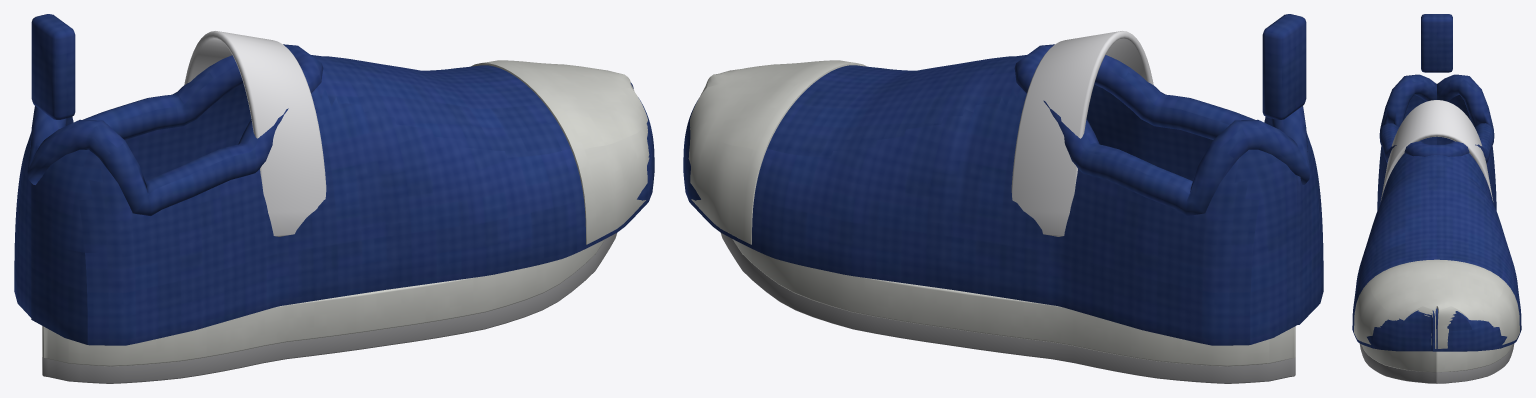
3 views of the same model, side by side, from view 1: azimuth 30°, elevation 25°; view 2: azimuth 150°, elevation 25°; view 3: azimuth 270°, elevation 25° (orthographic). The views are drawn at different scales.
Visible parts, largest first — view 1: schaft, zwischensohle, kragen, kappe, riemen, laufsohle, schlaufe; view 2: schaft, zwischensohle, kragen, kappe, riemen, laufsohle, schlaufe; view 3: schaft, kappe, kragen, riemen, zwischensohle, schlaufe, laufsohle.
Boxes of the visible parts, box(x1,y1,x2,y2) form: schaft: box(14, 54, 654, 345); zwischensohle: box(42, 239, 605, 366); kragen: box(27, 44, 323, 215); kappe: box(471, 60, 649, 244); riemen: box(184, 31, 326, 236); laufsohle: box(42, 233, 616, 383); schlaufe: box(31, 14, 75, 119); schaft: box(683, 54, 1323, 345); zwischensohle: box(732, 239, 1295, 366); kragen: box(1014, 44, 1310, 215); kappe: box(688, 60, 866, 244); riemen: box(1011, 31, 1153, 236); laufsohle: box(721, 233, 1295, 383); schlaufe: box(1262, 14, 1306, 119); schaft: box(1352, 95, 1521, 351); kappe: box(1354, 259, 1519, 348); kragen: box(1379, 74, 1494, 163); riemen: box(1380, 100, 1493, 201); zwischensohle: box(1361, 344, 1512, 372); schlaufe: box(1421, 14, 1452, 72); laufsohle: box(1359, 343, 1514, 383).
Bounding box in the file's own units: 0.2128 × 0.1185 × 0.0837.
8 materials, 6 textured.
